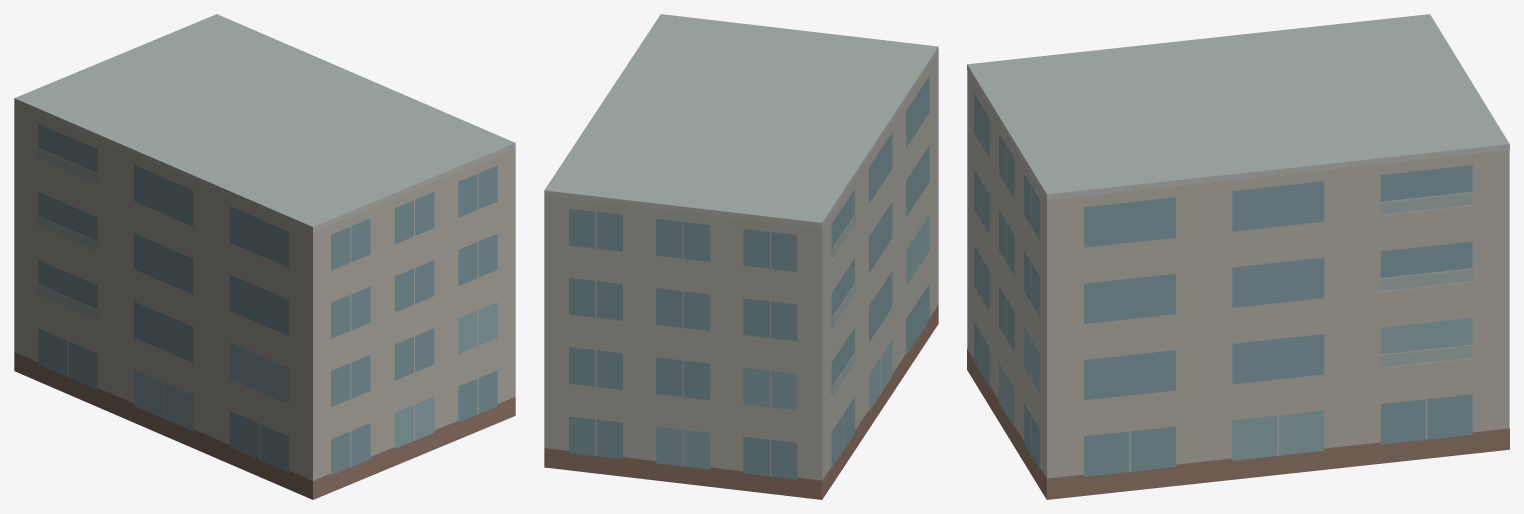
File: survey-upis-32909464.glb
The picture shows the model from 3 angles, left to right: view 1: azimuth 30°, elevation 25°; view 2: azimuth 150°, elevation 25°; view 3: azimuth 270°, elevation 25°; orthographic projection. The views are drawn at different scales.
Visible parts, largest first — view 1: survey-upis-32909464.tmp; view 2: survey-upis-32909464.tmp; view 3: survey-upis-32909464.tmp.
Boxes of the visible parts, bbox=[...] form: survey-upis-32909464.tmp: bbox=[14, 14, 515, 499]; survey-upis-32909464.tmp: bbox=[544, 14, 938, 499]; survey-upis-32909464.tmp: bbox=[967, 14, 1509, 499].
Bounding box in the file's own units: 16.21 × 12.8 × 20.61.
